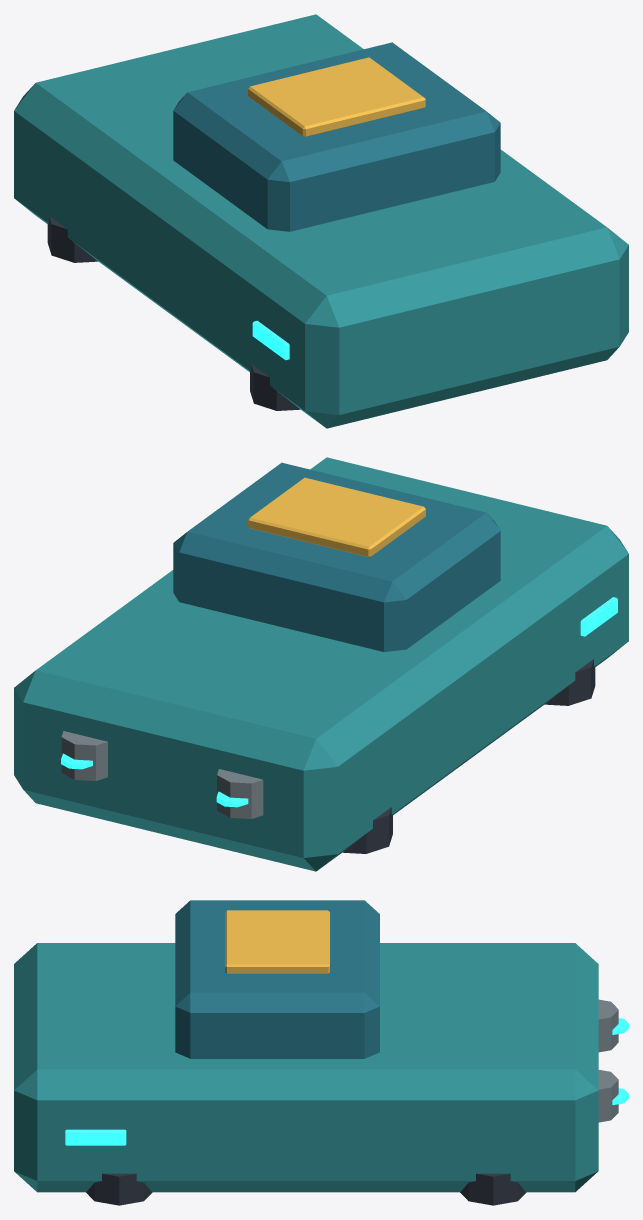
Rendered from vehicles_021_seed11.glb.
3 renders of one model, top to bottom at view 1: azimuth 30°, elevation 25°; view 2: azimuth 150°, elevation 25°; view 3: azimuth 270°, elevation 25°, orthographic. The views are drawn at different scales.
Visible parts, largest first — view 1: vehicles_021_seed11; view 2: vehicles_021_seed11; view 3: vehicles_021_seed11.
Part boxes in pixels (box(x1,y1,x2,y2)): vehicles_021_seed11: box(14, 14, 628, 428); vehicles_021_seed11: box(14, 457, 628, 871); vehicles_021_seed11: box(14, 900, 628, 1205).
Bounding box in the file's own units: 2.48 × 1.49 × 4.23.
